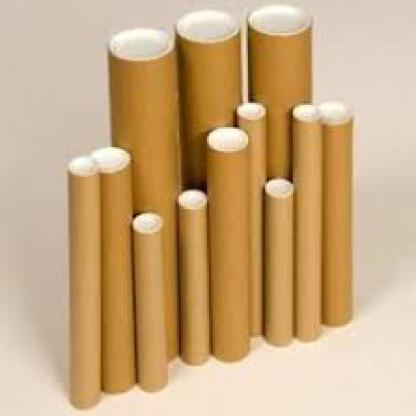CARDBOARD: (105, 24, 178, 361), (174, 8, 242, 192), (246, 2, 312, 178), (203, 125, 250, 361), (92, 145, 132, 394), (67, 153, 101, 407), (317, 98, 353, 326), (129, 210, 168, 392), (291, 101, 319, 341), (235, 99, 263, 337), (175, 186, 209, 364), (263, 177, 291, 348)
